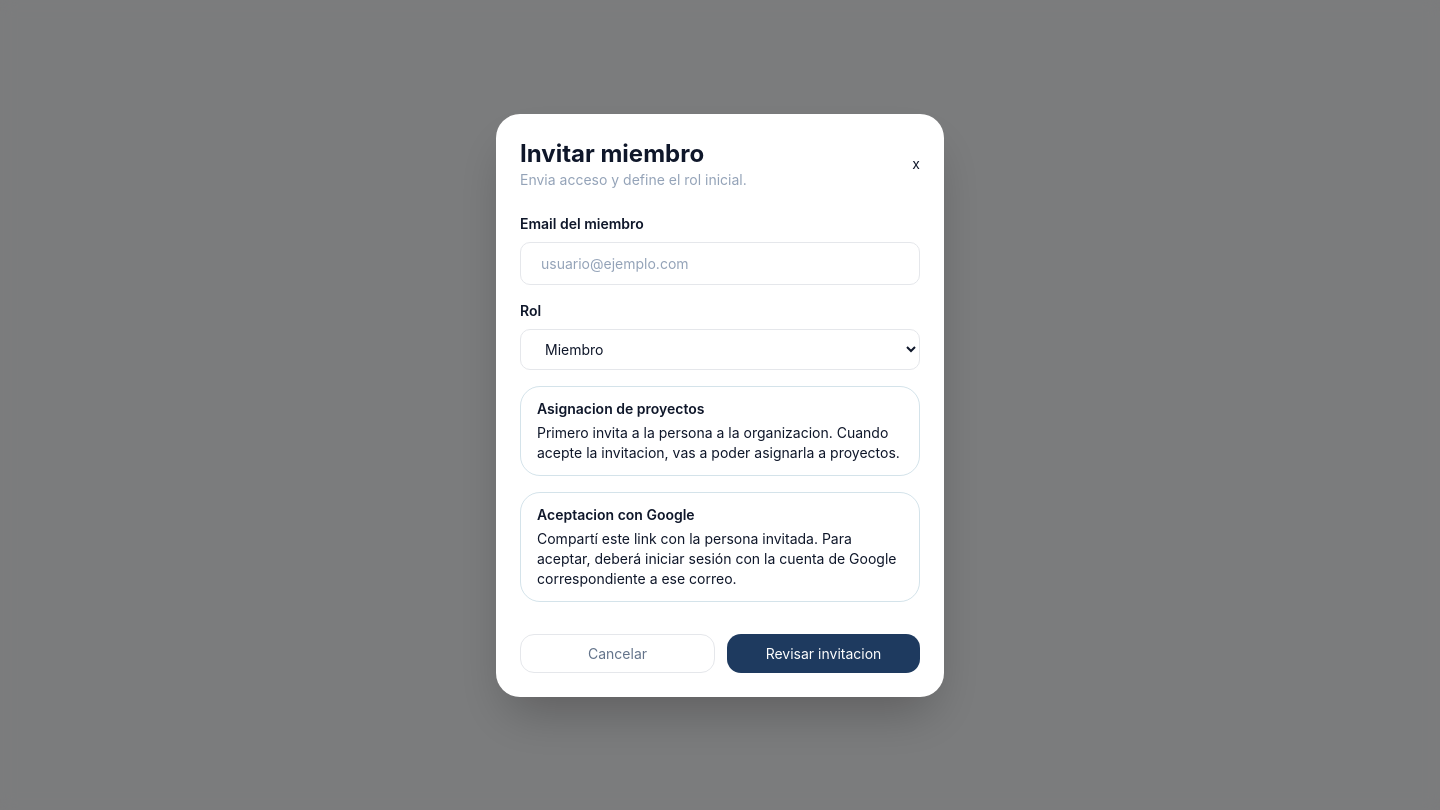
Test: InviteUserModal › validates email before moving to confirmation step
This screenshot has width=1440, height=810.
In the field labelled "Email del miembro": (720, 263) [520,242,920,284], type "invalido"
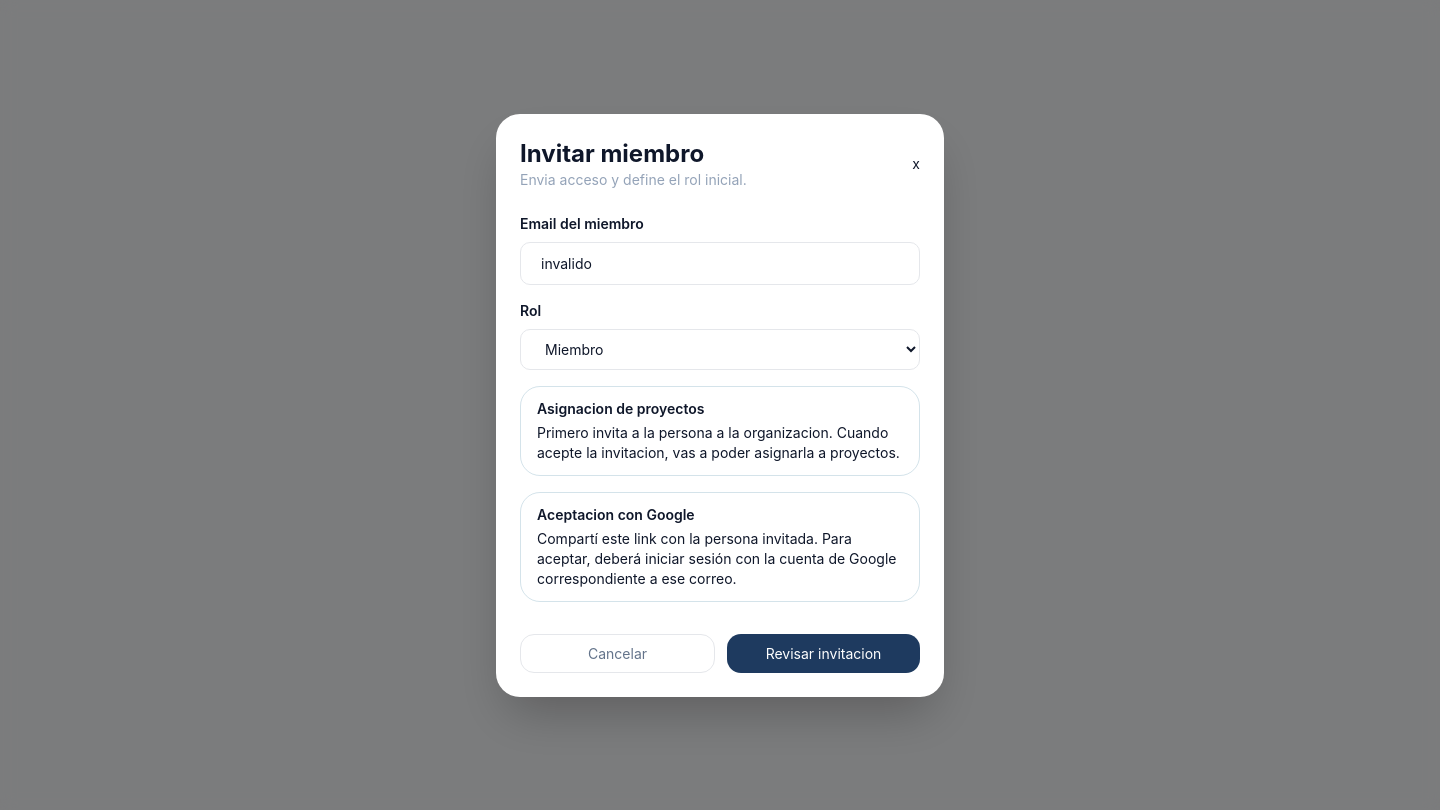
Submit the form labelled "Email del miembro", box [520,214,920,672]
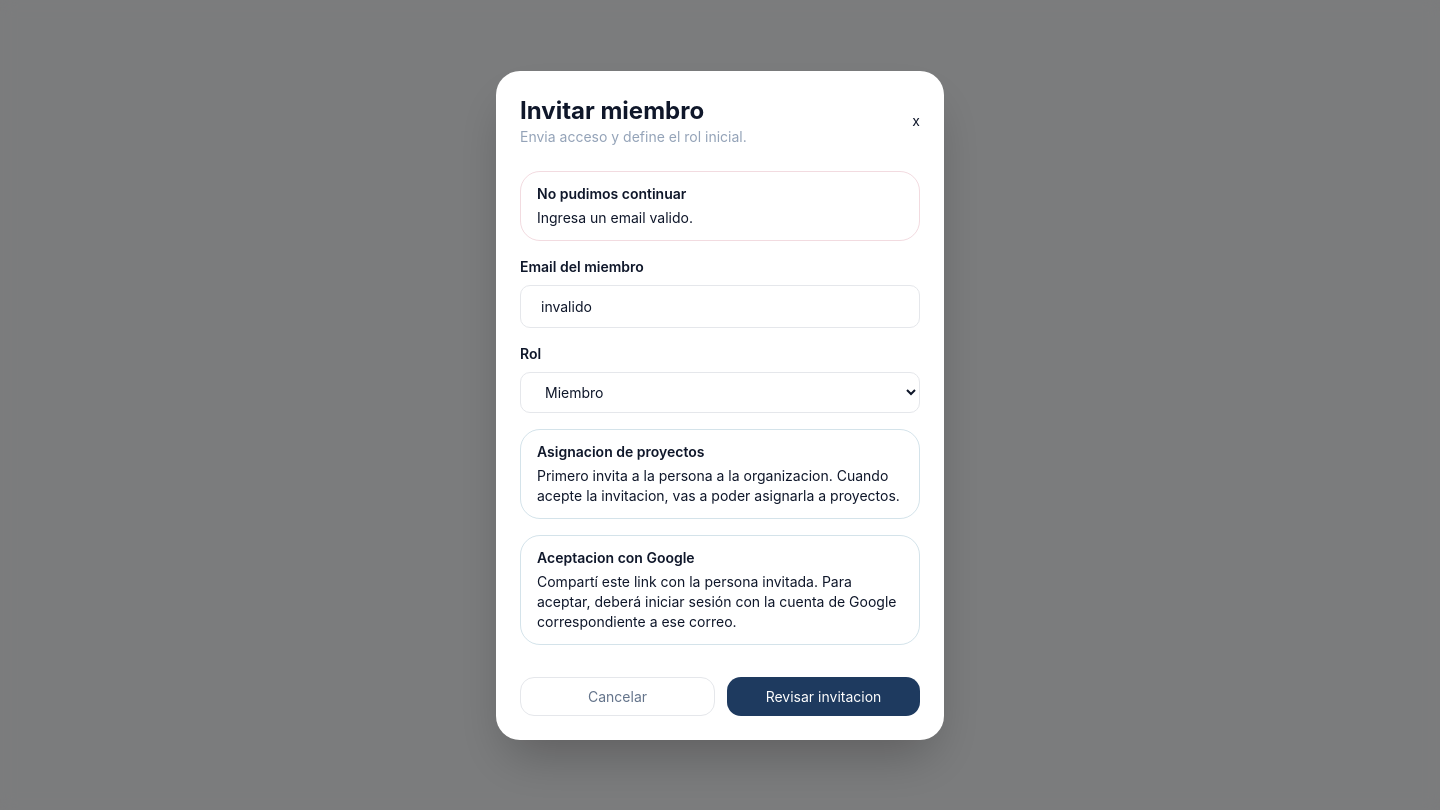
Expected: the text "Ingresa un email valido." is shown, [537,208,693,226]
